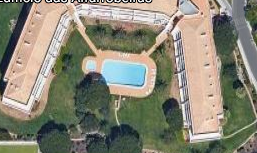pool: (102, 59, 146, 87)
